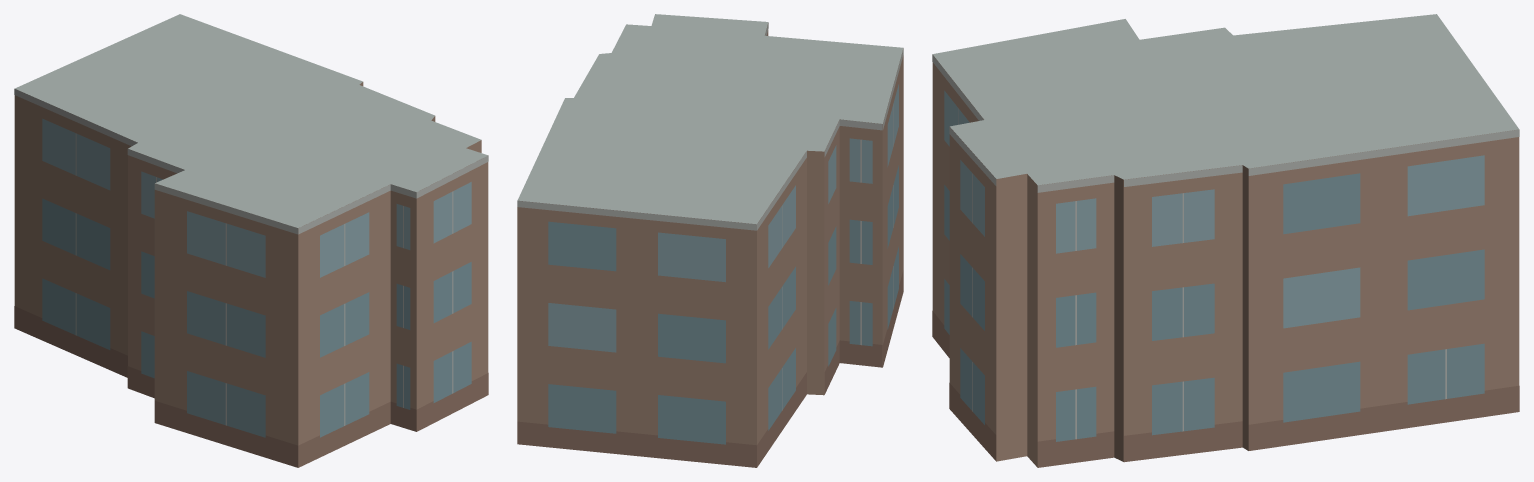
Rendered from survey-upis-32615979.glb.
The picture shows the model from 3 angles, left to right: view 1: azimuth 30°, elevation 25°; view 2: azimuth 150°, elevation 25°; view 3: azimuth 270°, elevation 25°; orthographic projection. The views are drawn at different scales.
Parts seen in each view (by area): view 1: survey-upis-32615979.tmp; view 2: survey-upis-32615979.tmp; view 3: survey-upis-32615979.tmp.
Part boxes in pixels (x1,y1,x2,y2): survey-upis-32615979.tmp: [14, 14, 488, 467]; survey-upis-32615979.tmp: [517, 14, 903, 467]; survey-upis-32615979.tmp: [932, 14, 1519, 467].
Bounding box in the file's own units: 11.91 × 9.15 × 17.24.
